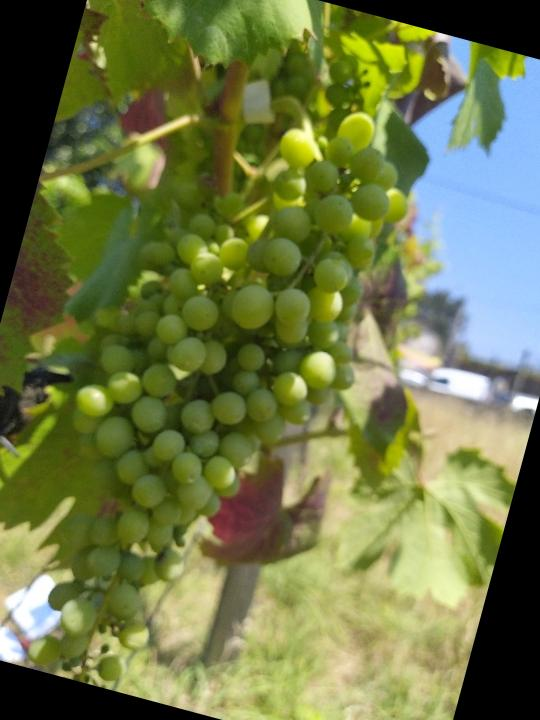grape: (3, 50, 436, 720)
